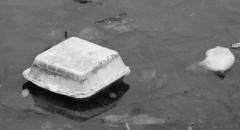general: (22, 36, 130, 102)
